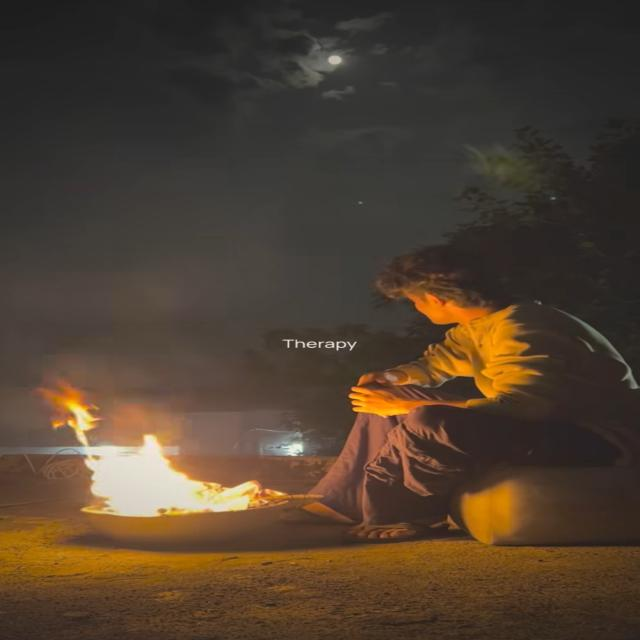fire: (85, 434, 206, 517), (53, 402, 98, 446)
